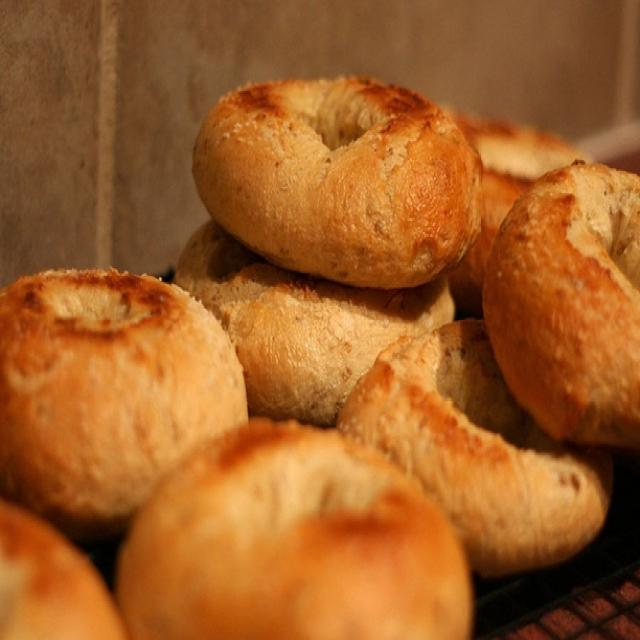面包点心: (3, 39, 630, 621)
